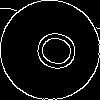O: (25, 25, 80, 75)
